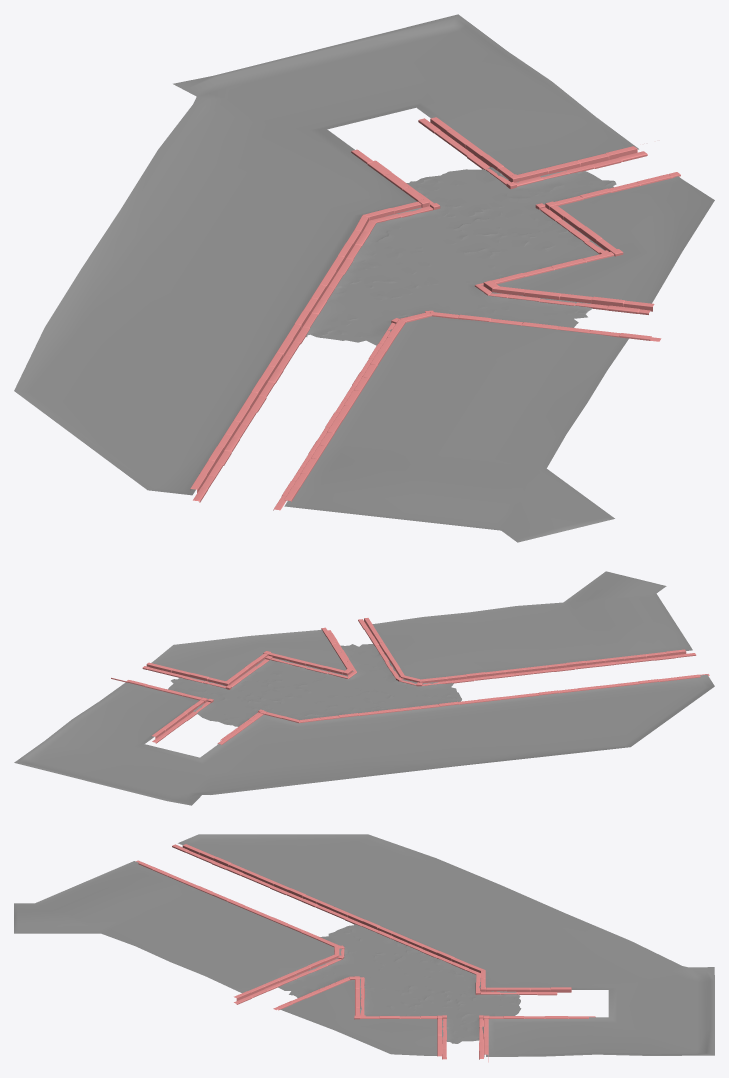
File: SM_ENV_KNVLLG03_Ground_E.gltf
3 views of the same model, one above another, from view 1: azimuth 30°, elevation 25°; view 2: azimuth 150°, elevation 25°; view 3: azimuth 270°, elevation 25° (orthographic). The views are drawn at different scales.
Visible parts, largest first — view 1: SM_ENV_KNVLLG03_Ground_E; view 2: SM_ENV_KNVLLG03_Ground_E; view 3: SM_ENV_KNVLLG03_Ground_E.
Boxes of the visible parts, x1=… form: SM_ENV_KNVLLG03_Ground_E: x1=14, y1=14, x2=714, y2=542; SM_ENV_KNVLLG03_Ground_E: x1=14, y1=571, x2=714, y2=805; SM_ENV_KNVLLG03_Ground_E: x1=14, y1=834, x2=714, y2=1062.
Size of the model in its own units: 52.22 by 0.6995 by 67.64.
